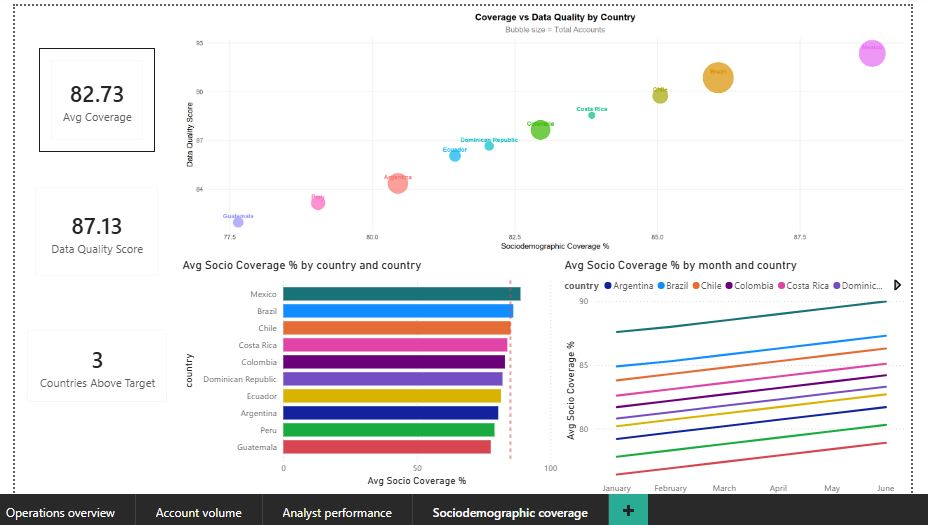

The page's visual inventory and layout, read from the dashboard file:
{"tool":"powerbi","page":{"name":"Sociodemographic coverage","canvas":[1280,720],"ordinal":3},"visuals":[{"type":"cardVisual","fields":{"Data":["latam_operations_data.Avg Socio Coverage %"]},"box":[34.3,60,165.7,148.6],"z":0},{"type":"cardVisual","fields":{"Data":["latam_operations_data.Avg Data Quality Score"]},"box":[11.4,241.4,210,161.4],"z":1},{"type":"cardVisual","fields":{"Data":["latam_operations_data.Countryes above 85%"]},"box":[0,445.7,234.3,137.1],"z":2},{"type":"barChart","fields":{"Category":["latam_operations_data.country"],"Y":["latam_operations_data.Avg Socio Coverage %"],"Series":["latam_operations_data.country"]},"box":[234.3,360,545.7,331.4],"z":3},{"type":"scriptVisual","fields":{"Values":["latam_operations_data.country","latam_operations_data.socio_coverage_pct","latam_operations_data.data_quality_score","latam_operations_data.total_accounts"]},"box":[234.3,0,1045.7,360],"z":4},{"type":"lineChart","fields":{"Category":["latam_operations_data.month"],"Y":["latam_operations_data.Avg Socio Coverage %"],"Series":["latam_operations_data.country"]},"box":[780,360,500,360],"z":5}]}

Visuals, with their boxes on the page's 1280x720 design canvas (x1, y1, x2, y2). These are canvas units, not pixel positions in the 928x525 screenshot, which may show the page scaled, cropped or inside an application window:
cardVisual - latam_operations_data.Avg Socio Coverage %: rect(34, 60, 200, 209)
cardVisual - latam_operations_data.Avg Data Quality Score: rect(11, 241, 221, 403)
cardVisual - latam_operations_data.Countryes above 85%: rect(0, 446, 234, 583)
barChart - latam_operations_data.country x latam_operations_data.Avg Socio Coverage %: rect(234, 360, 780, 691)
scriptVisual - latam_operations_data.country x latam_operations_data.socio_coverage_pct: rect(234, 0, 1280, 360)
lineChart - latam_operations_data.month x latam_operations_data.Avg Socio Coverage %: rect(780, 360, 1280, 720)
